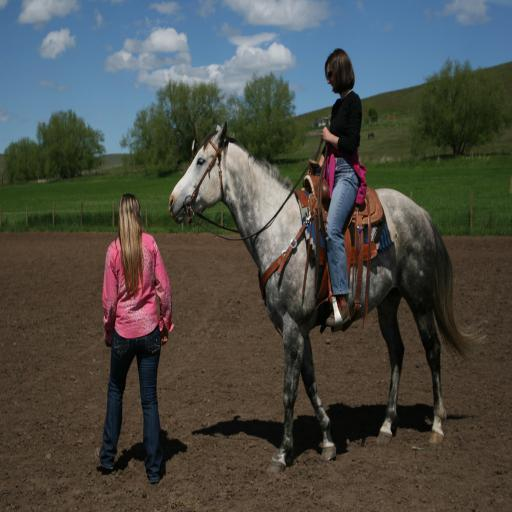horse: (167, 118, 488, 476)
